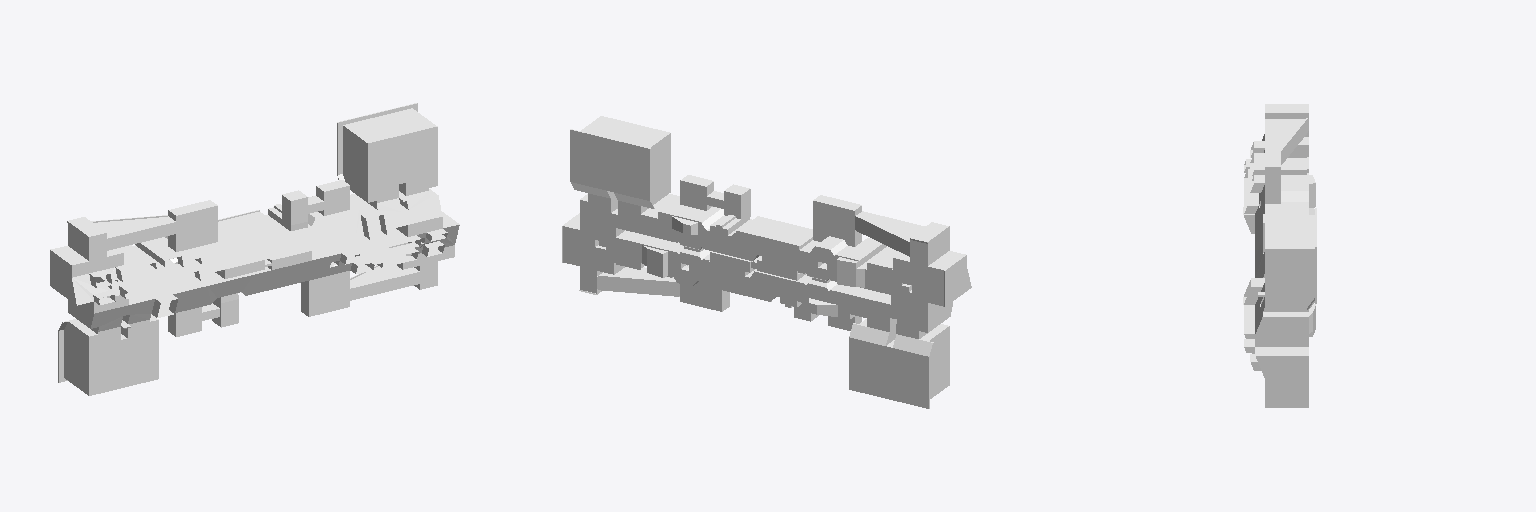
Rendered from longest_Lightmap.obj.
3 views of the same model, side by side, from view 1: azimuth 30°, elevation 25°; view 2: azimuth 150°, elevation 25°; view 3: azimuth 270°, elevation 25° (orthographic).
Parts seen in each view (by area): view 1: longest_Lightmap_0; view 2: longest_Lightmap_0; view 3: longest_Lightmap_0.
Boxes of the visible parts, x1=… form: longest_Lightmap_0: x1=50, y1=103, x2=459, y2=395; longest_Lightmap_0: x1=562, y1=116, x2=971, y2=408; longest_Lightmap_0: x1=1243, y1=104, x2=1316, y2=407.
Size of the model in its own units: 3300 by 1582 by 545.